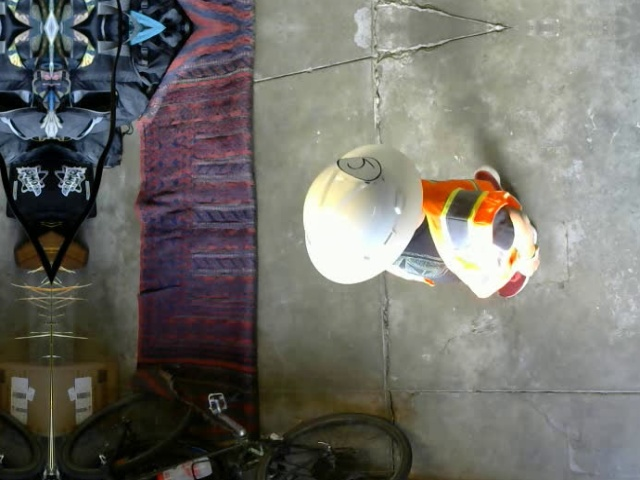two: (334, 154, 382, 180)
